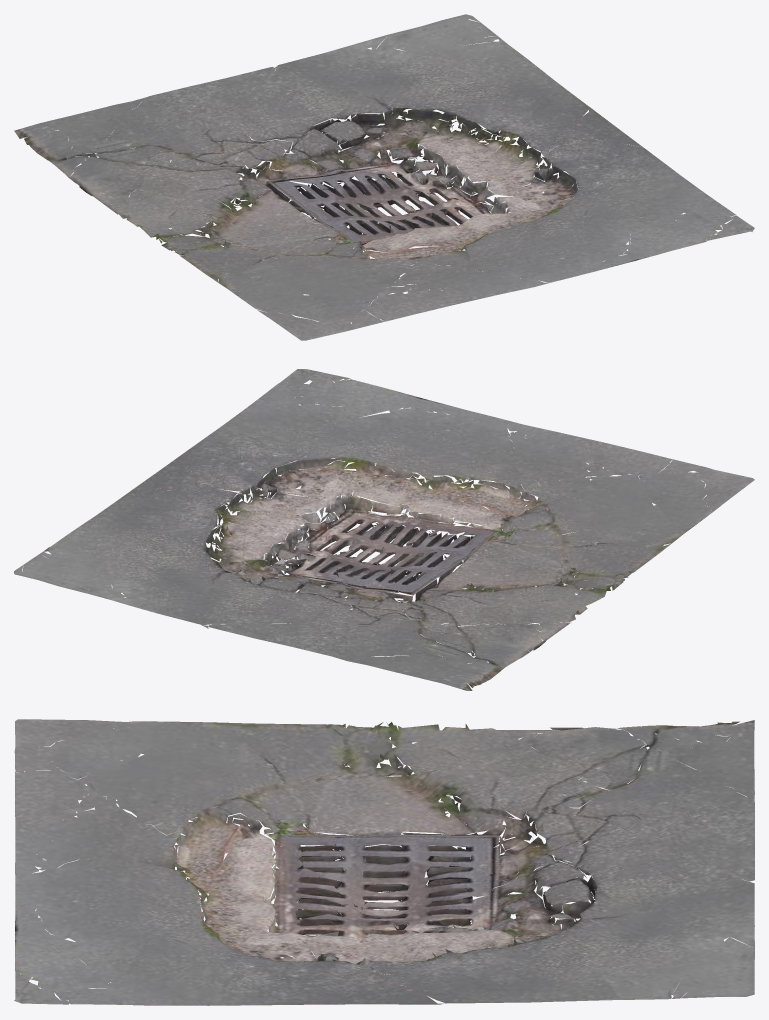
Rendered from manhole_cover_on_broken_asphalt_road.glb.
3 views of the same model, one above another, from view 1: azimuth 30°, elevation 25°; view 2: azimuth 150°, elevation 25°; view 3: azimuth 270°, elevation 25° (orthographic). The views are drawn at different scales.
Parts seen in each view (by area): view 1: manhole_cover_on_broken_asphalt_road.001; view 2: manhole_cover_on_broken_asphalt_road.001; view 3: manhole_cover_on_broken_asphalt_road.001.
Part boxes in pixels (x1=…): manhole_cover_on_broken_asphalt_road.001: x1=14, y1=14, x2=754, y2=340; manhole_cover_on_broken_asphalt_road.001: x1=14, y1=369, x2=754, y2=690; manhole_cover_on_broken_asphalt_road.001: x1=14, y1=719, x2=754, y2=1005.
Bounding box in the file's own units: 2.04 × 0.2025 × 2.24.
Materials: 1 (1 with a texture image).
